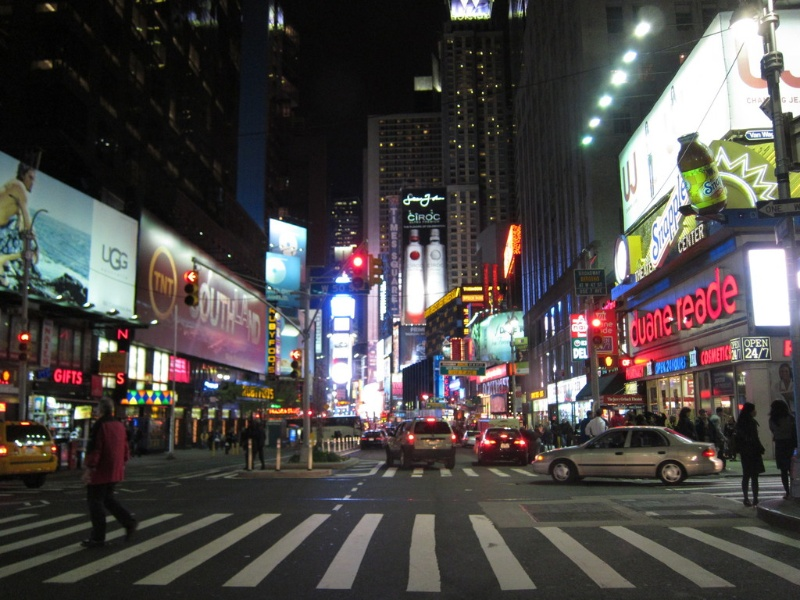red_light: (339, 236, 376, 284)
